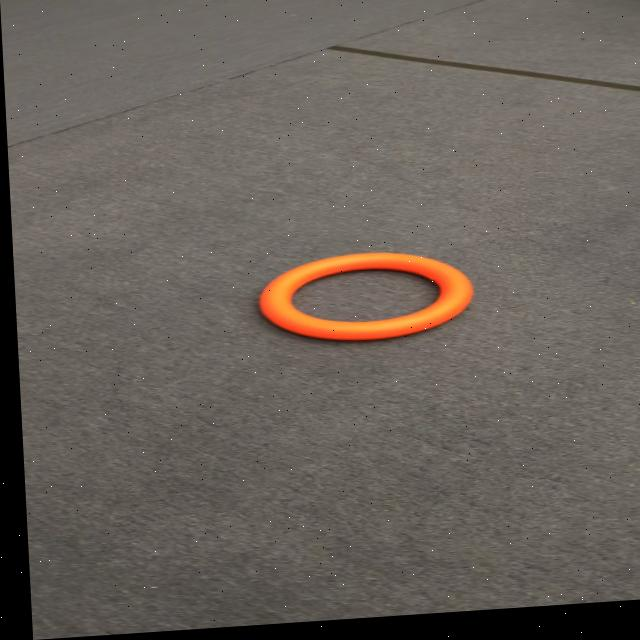note: (258, 246, 478, 346)
